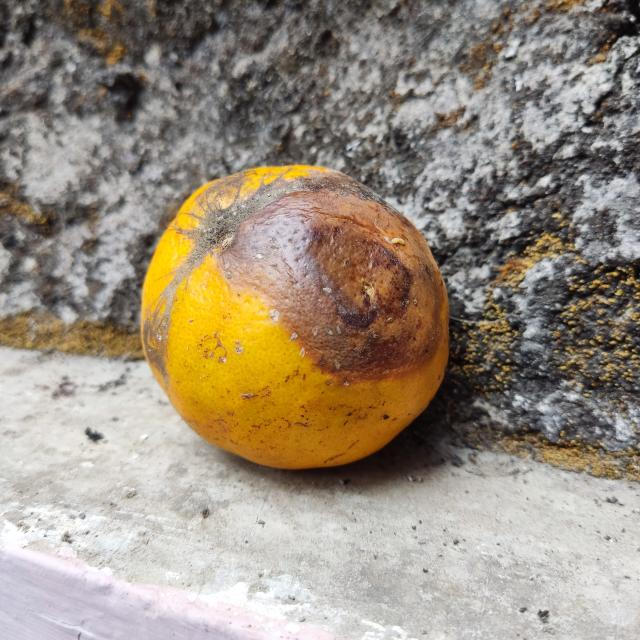orange: (139, 163, 447, 468)
